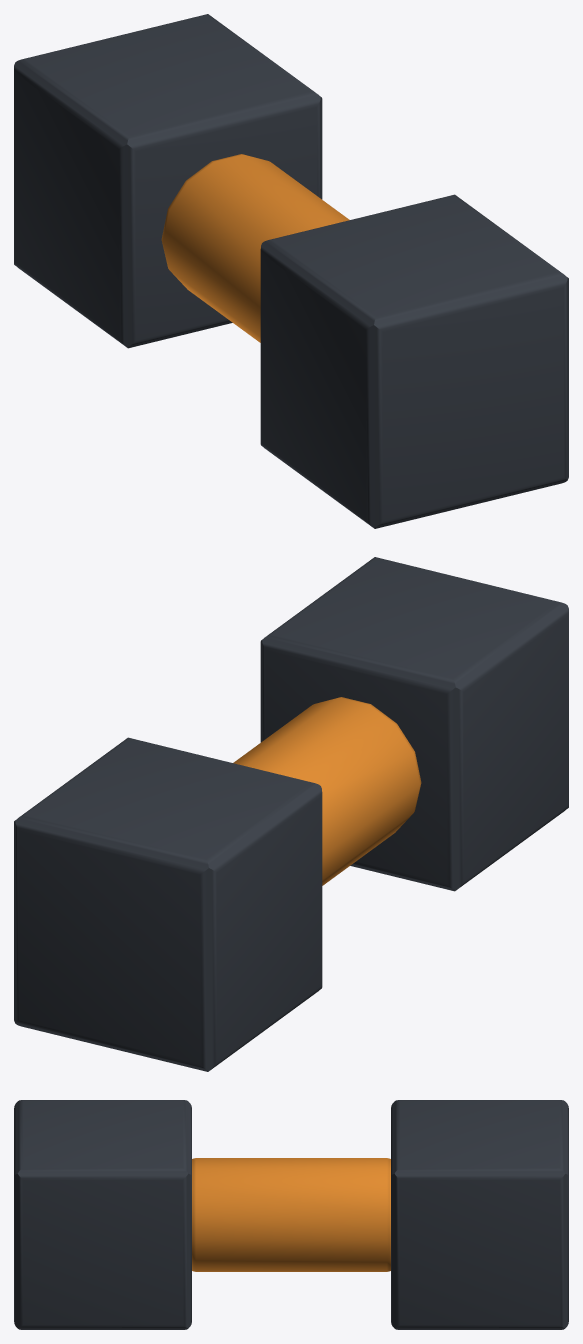
The model's file is R4C_STRUT_STANDARD.glb.
The picture shows the model from 3 angles, top to bottom: view 1: azimuth 30°, elevation 25°; view 2: azimuth 150°, elevation 25°; view 3: azimuth 270°, elevation 25°; orthographic projection. The views are drawn at different scales.
Parts seen in each view (by area): view 1: R4C_STRUT_STANDARD; view 2: R4C_STRUT_STANDARD; view 3: R4C_STRUT_STANDARD.
Boxes of the visible parts, <box> form: R4C_STRUT_STANDARD: <box>14,14,568,528</box>; R4C_STRUT_STANDARD: <box>14,557,568,1071</box>; R4C_STRUT_STANDARD: <box>14,1100,568,1329</box>.
Size of the model in its own units: 0.52 by 0.52 by 1.62.
